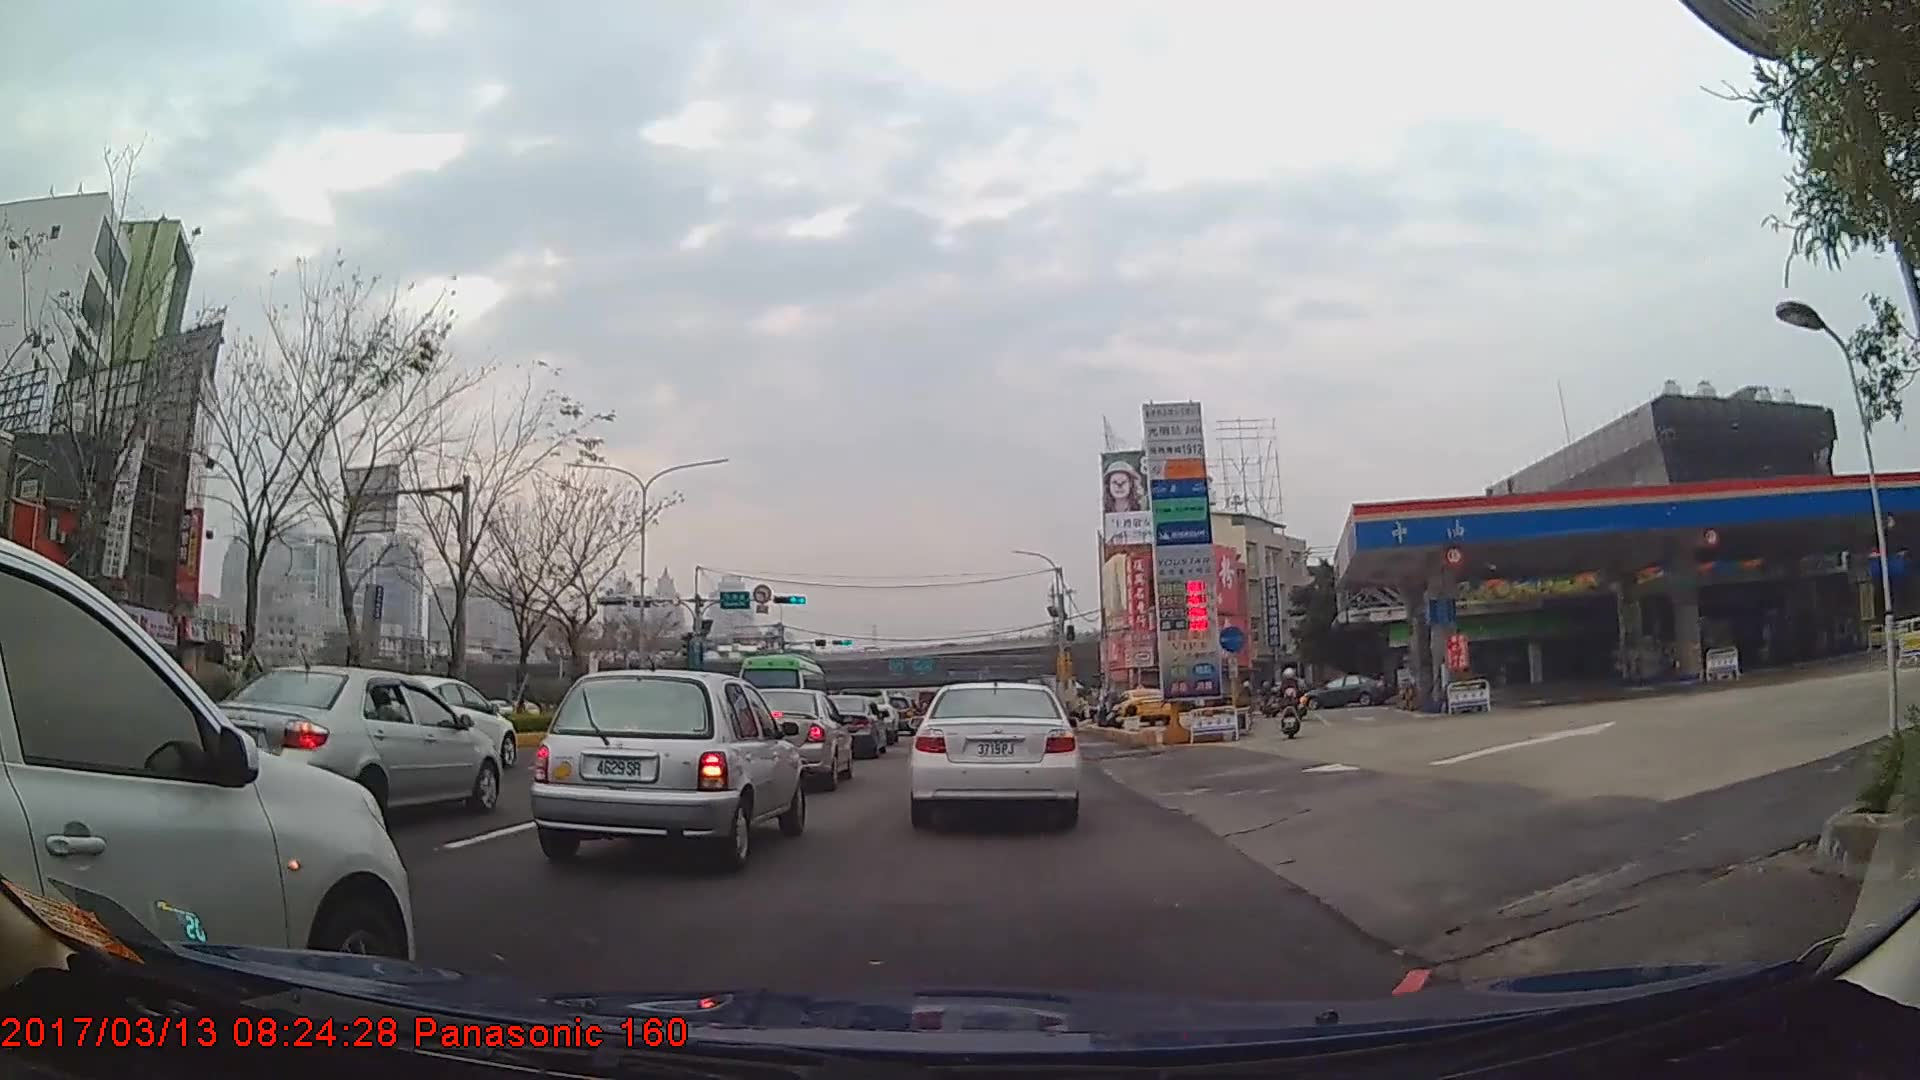rider: (1281, 667, 1302, 737), (1283, 670, 1306, 723)
vehicle: (0, 539, 410, 1016), (528, 668, 805, 871), (196, 663, 499, 818), (911, 676, 1080, 830), (726, 685, 855, 795), (731, 650, 826, 727), (807, 695, 887, 758), (1011, 675, 1095, 723), (1294, 674, 1389, 711), (1113, 686, 1171, 726)
